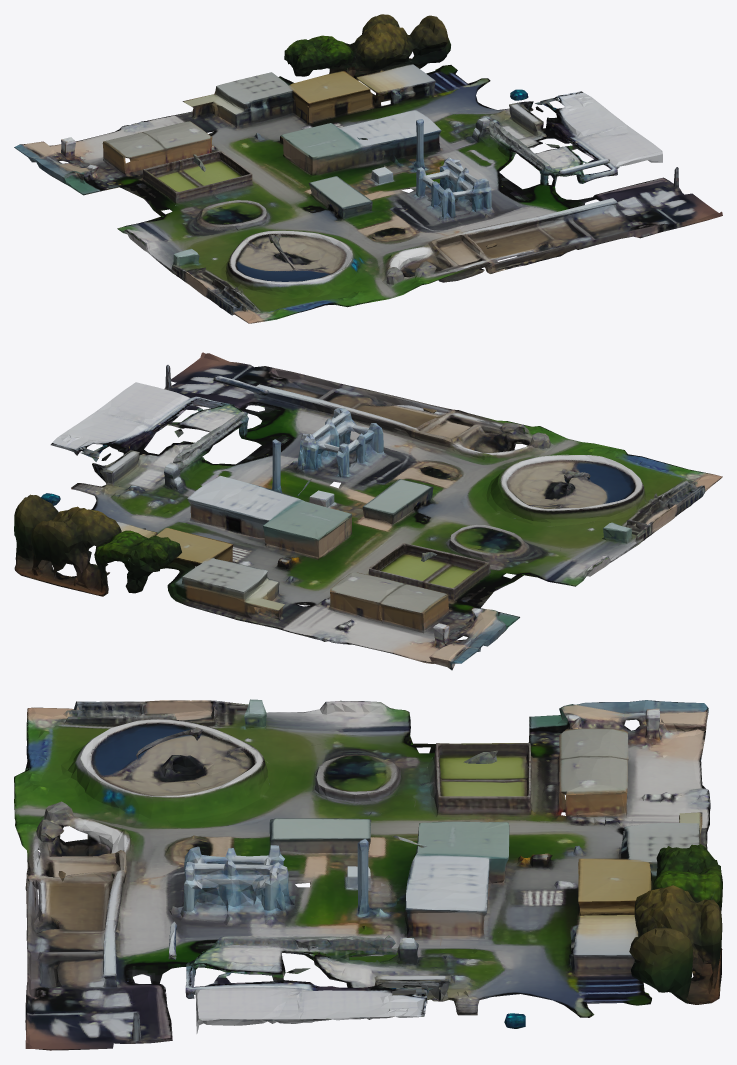
The model's file is X-CLNMRR_TRTPNTXX.glb.
3 renders of one model, top to bottom at view 1: azimuth 30°, elevation 25°; view 2: azimuth 150°, elevation 25°; view 3: azimuth 270°, elevation 25°, orthographic. The views are drawn at different scales.
Visible parts, largest first — view 1: world; view 2: world; view 3: world.
Boxes of the visible parts, x1,y1,x2,y2 form: world: [14, 14, 722, 323]; world: [14, 352, 722, 670]; world: [14, 699, 722, 1050].
Size of the model in its own units: 1 by 0.1327 by 0.9053.
Materials: 1 (1 with a texture image).
